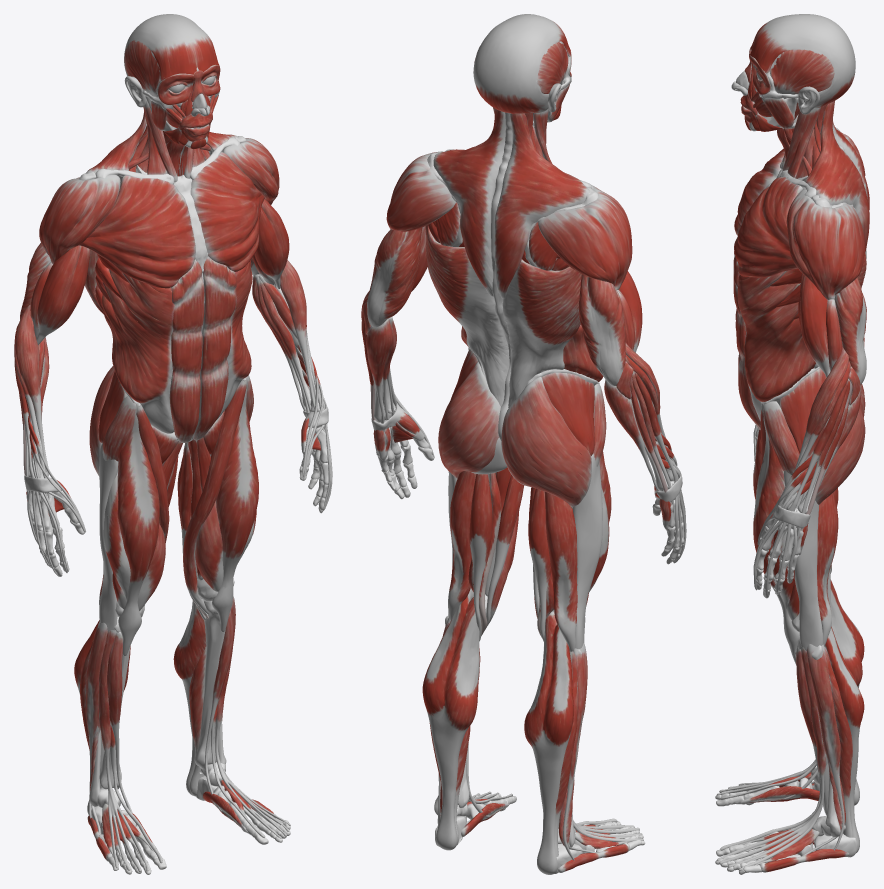
Rendered from male-full-body-ecorche-hero.glb.
The picture shows the model from 3 angles, left to right: view 1: azimuth 30°, elevation 25°; view 2: azimuth 150°, elevation 25°; view 3: azimuth 270°, elevation 25°; orthographic projection. The views are drawn at different scales.
Visible parts, largest first — view 1: Object_23, Object_17, Object_29, Object_25, Object_31, Object_15, Object_33, Object_5, Object_7, Object_11, Object_27, Object_3 (+3 smaller); view 2: Object_13, Object_7, Object_3, Object_9, Object_5, Object_33, Object_15, Object_31, Object_29, Object_11, Object_25, Object_27 (+4 smaller); view 3: Object_23, Object_25, Object_15, Object_29, Object_31, Object_5, Object_7, Object_3, Object_33, Object_13, Object_11, Object_17 (+3 smaller).
Part boxes in pixels (x1,y1,x2,y2): Object_23: (79, 152, 264, 442); Object_17: (103, 377, 258, 656); Object_29: (26, 51, 328, 874); Object_25: (85, 595, 290, 872); Object_31: (14, 260, 332, 576); Object_15: (124, 14, 220, 149); Object_33: (20, 199, 289, 345); Object_5: (39, 138, 279, 263); Object_7: (74, 572, 206, 814); Object_11: (24, 76, 328, 631); Object_27: (151, 410, 224, 615); Object_3: (89, 366, 253, 476); Object_13: (425, 109, 589, 407); Object_7: (422, 595, 578, 874); Object_3: (438, 349, 606, 507); Object_9: (448, 471, 577, 651); Object_5: (386, 151, 632, 289); Object_33: (367, 226, 642, 385); Object_15: (473, 14, 571, 121); Object_31: (361, 291, 686, 562); Object_29: (371, 41, 684, 873); Object_11: (371, 83, 682, 649); Object_25: (437, 617, 643, 872); Object_27: (485, 467, 554, 629); Object_23: (733, 149, 815, 429); Object_25: (717, 644, 849, 872); Object_15: (740, 14, 855, 131); Object_29: (715, 49, 857, 874); Object_31: (753, 347, 861, 597); Object_5: (786, 127, 865, 299); Object_7: (824, 579, 864, 852); Object_3: (763, 368, 865, 504); Object_33: (798, 250, 866, 384); Object_13: (770, 101, 869, 368); Object_11: (731, 71, 845, 650); Object_17: (753, 402, 799, 665).
Bounding box in the file's own units: 26.15 × 68.16 × 11.7.
Materials: 16 (14 with a texture image).
